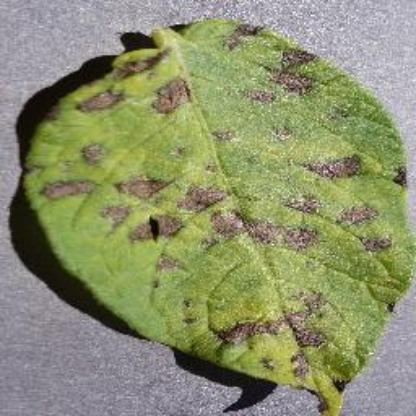Early-Blight: (21, 15, 415, 409)
